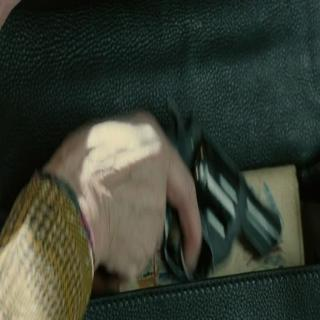gun: (72, 83, 278, 298)
